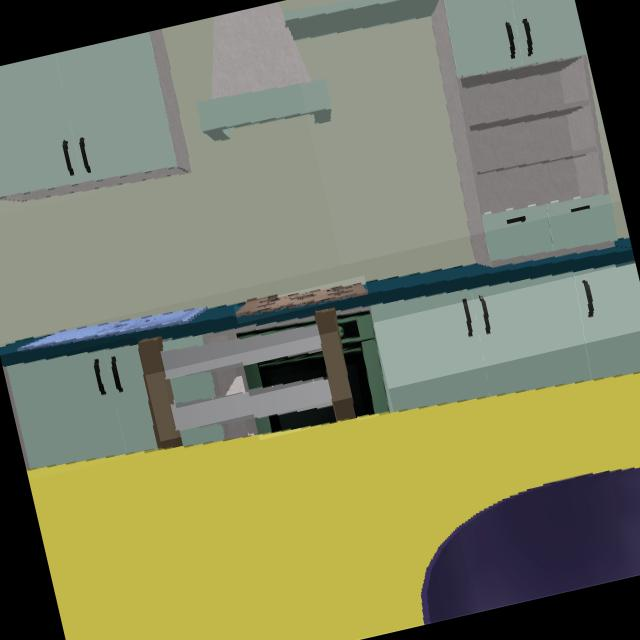cabinet: (285, 0, 617, 270), (369, 260, 640, 414), (0, 28, 192, 202), (3, 345, 158, 470), (171, 366, 249, 404), (181, 419, 258, 448), (164, 329, 238, 352)
chair: (138, 310, 355, 450)
countertop: (0, 240, 635, 368)
oven: (337, 312, 390, 418), (243, 352, 328, 392), (255, 405, 337, 435), (238, 317, 317, 340)
stove: (237, 282, 367, 315)
table: (27, 372, 640, 640)
